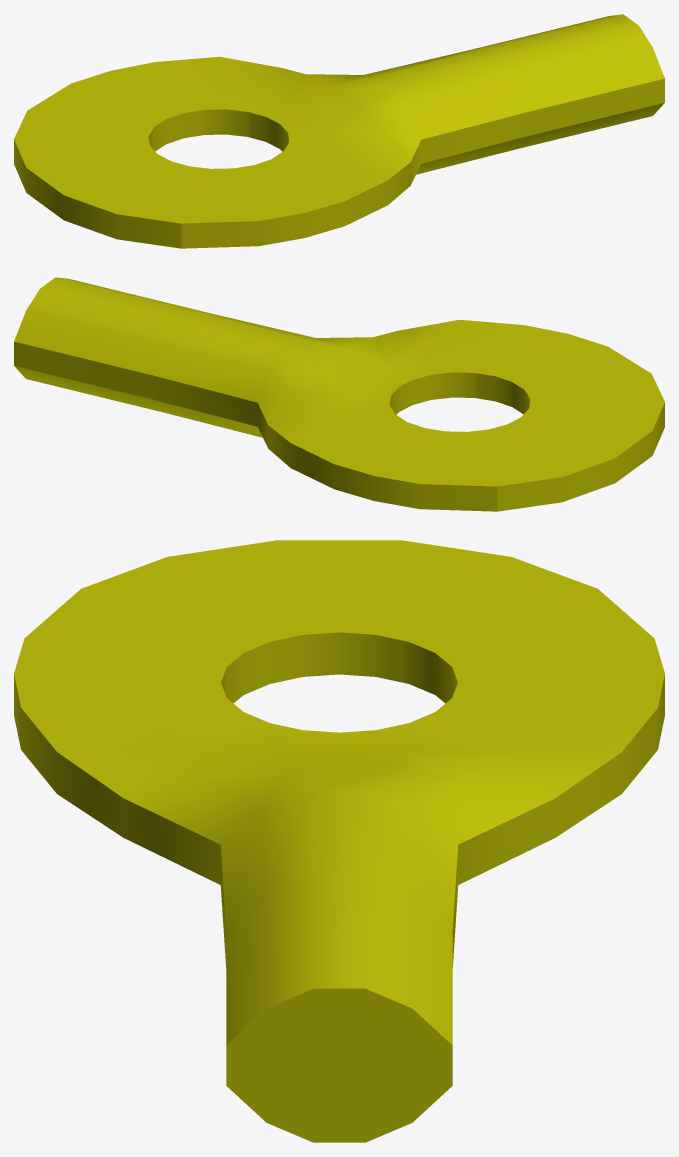
Rendered from Lug.glb.
3 views of the same model, one above another, from view 1: azimuth 30°, elevation 25°; view 2: azimuth 150°, elevation 25°; view 3: azimuth 270°, elevation 25° (orthographic). The views are drawn at different scales.
Parts seen in each view (by area): view 1: pCube2; view 2: pCube2; view 3: pCube2.
Boxes of the visible parts, box(x1,y1,x2,y2) form: pCube2: box(14, 14, 664, 248); pCube2: box(14, 277, 664, 511); pCube2: box(14, 540, 664, 1142).
Size of the model in its own units: 14.1 by 2.11 by 8.09.
